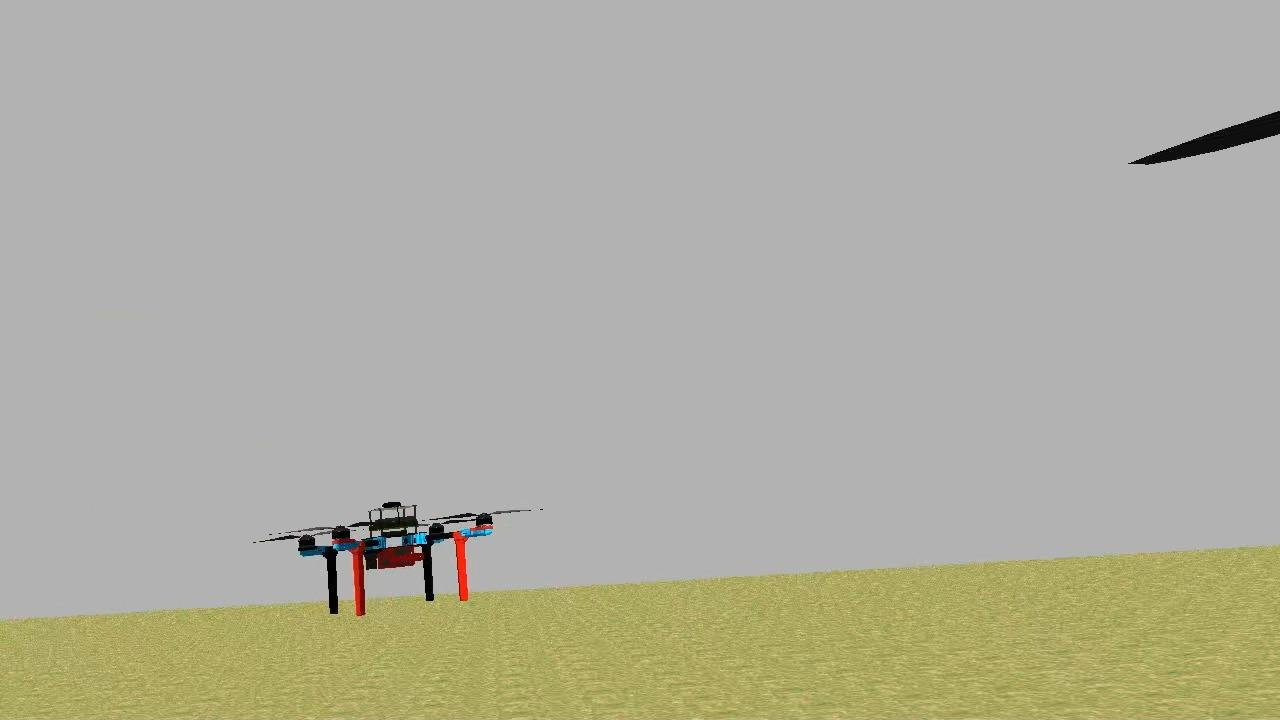UAV: (294, 496, 502, 616)
